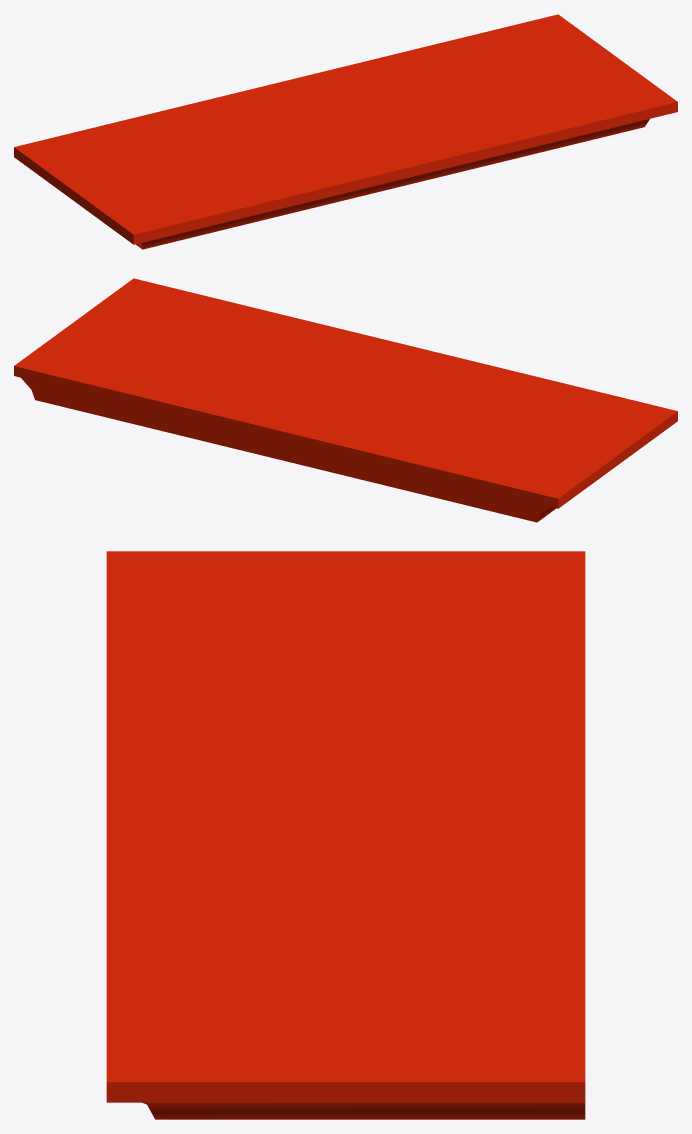
File: repisafbx.fbx
3 views of the same model, one above another, from view 1: azimuth 30°, elevation 25°; view 2: azimuth 150°, elevation 25°; view 3: azimuth 270°, elevation 25° (orthographic). The views are drawn at different scales.
Visible parts, largest first — view 1: CHIMENEA.003; view 2: CHIMENEA.003; view 3: CHIMENEA.003.
Boxes of the visible parts, box(x1,y1,x2,y2) form: CHIMENEA.003: box(14, 14, 677, 249); CHIMENEA.003: box(14, 278, 677, 522); CHIMENEA.003: box(106, 551, 585, 1119).
Size of the model in its own units: 201 by 10.24 by 76.7.
